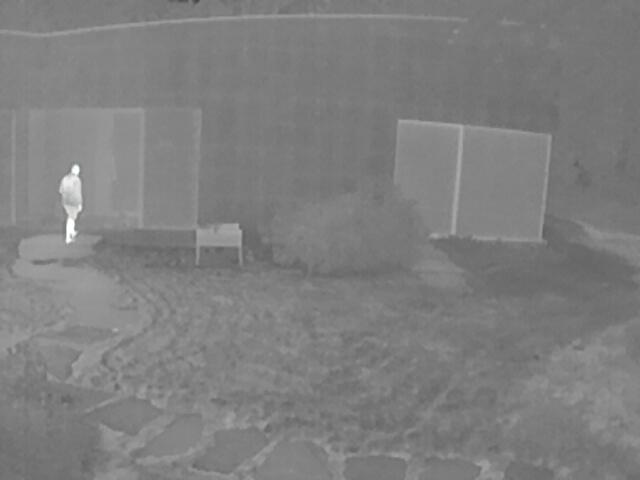person: (58, 163, 84, 243)
